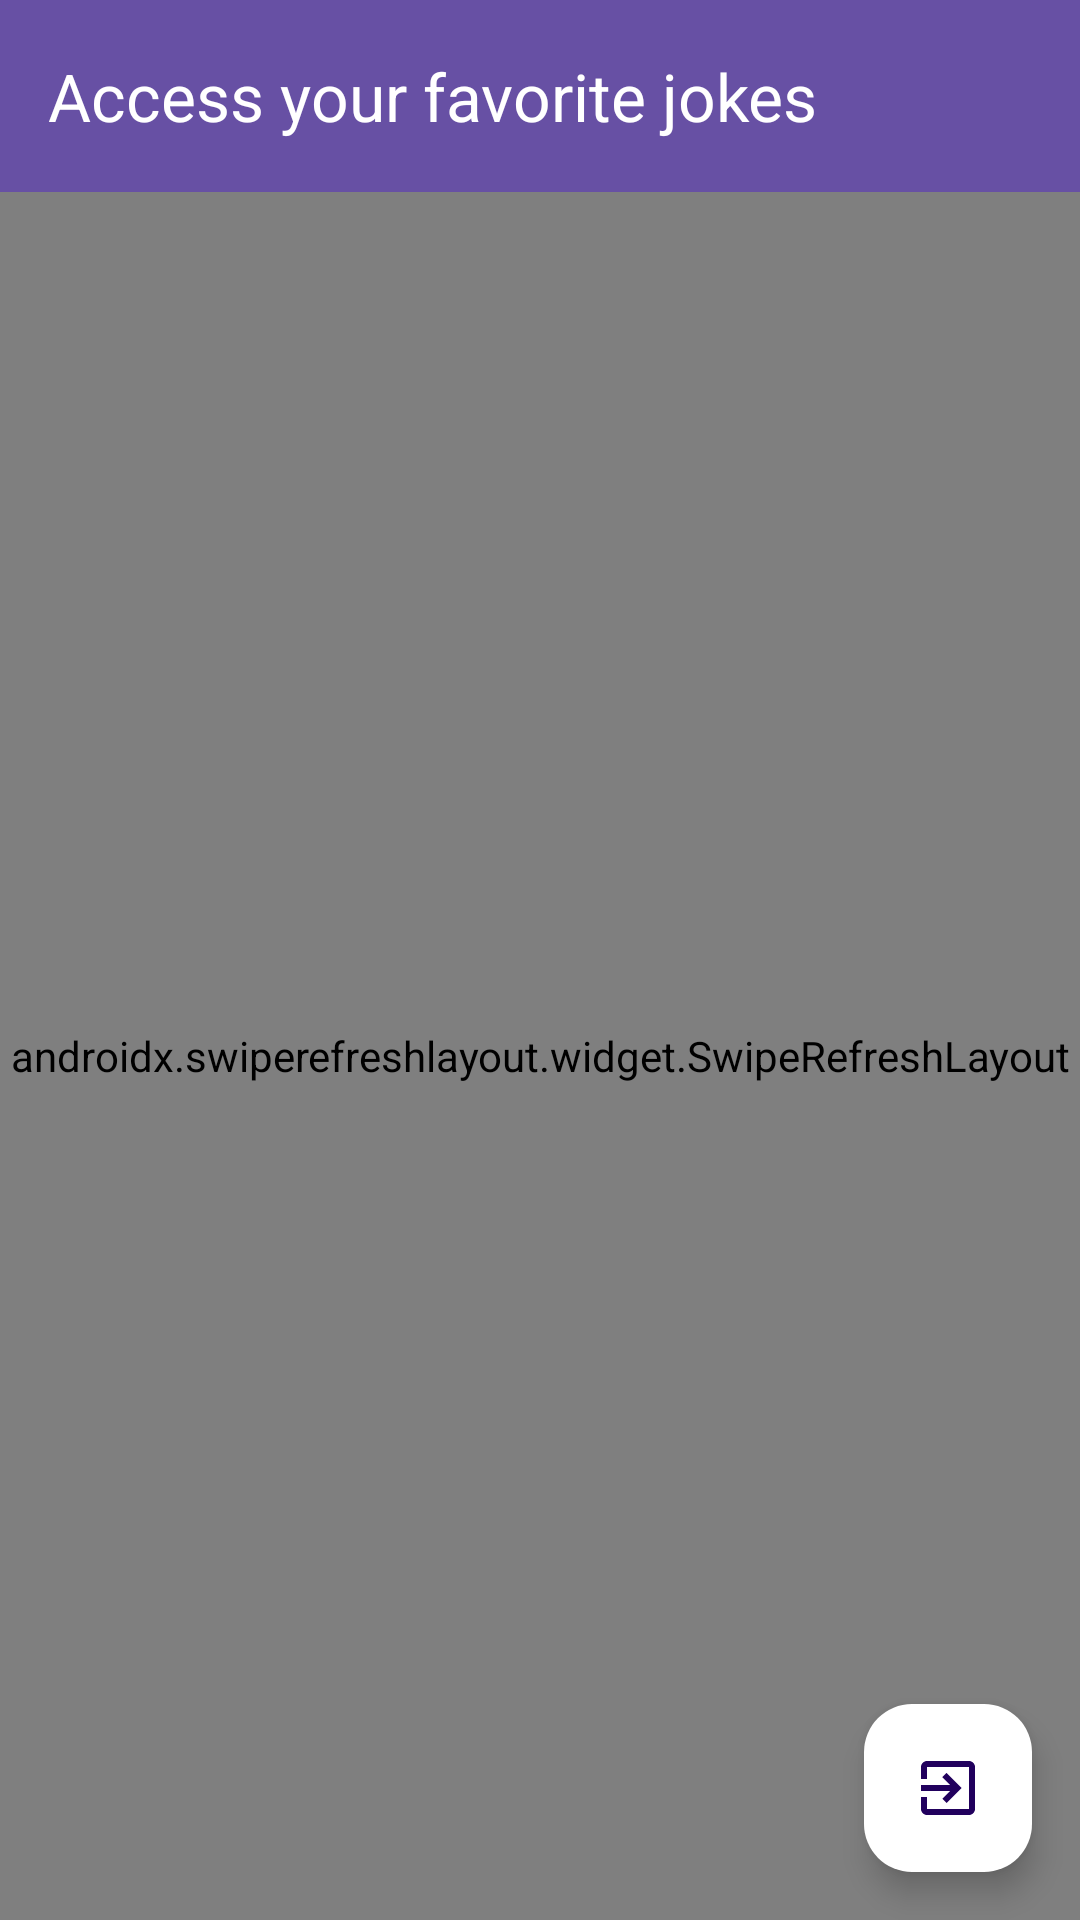

Icons on this 1080 x 1920 Android screen, each with its box as BBox(x1, y1, x2, y2):
exit to app: BBox(864, 1704, 1032, 1872)
